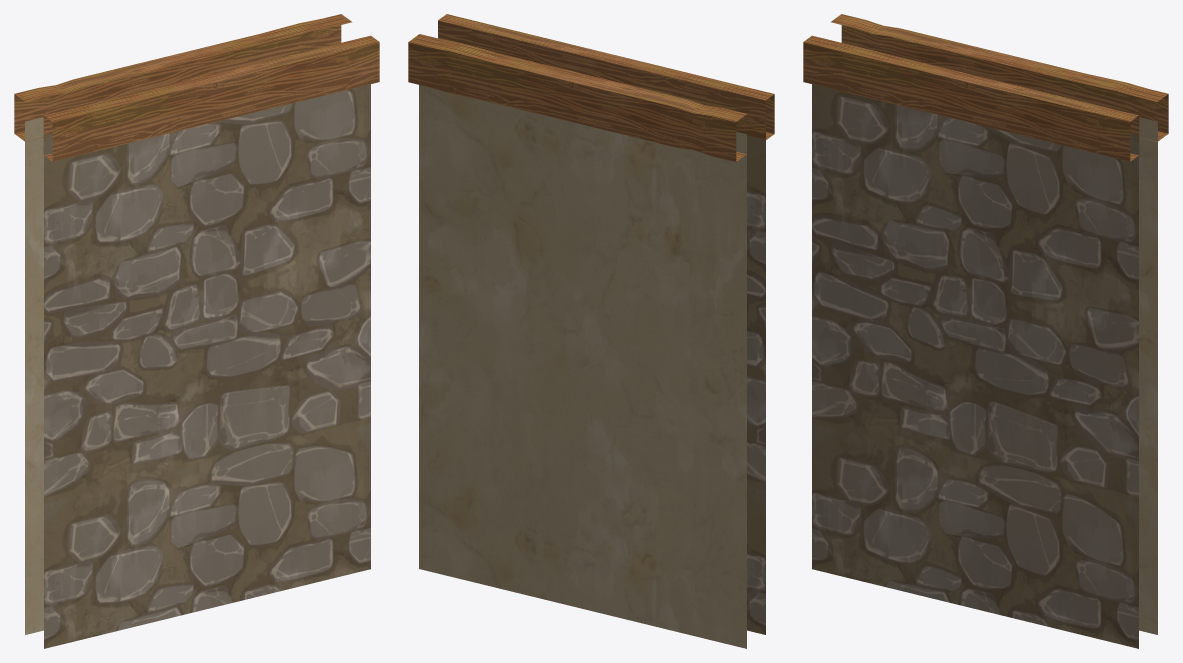
File: Wall_UnevenBrick_Straight.gltf
The picture shows the model from 3 angles, left to right: view 1: azimuth 30°, elevation 25°; view 2: azimuth 150°, elevation 25°; view 3: azimuth 330°, elevation 25°; orthographic projection.
Parts seen in each view (by area): view 1: Wall_UnevenBrick_Straight; view 2: Wall_UnevenBrick_Straight; view 3: Wall_UnevenBrick_Straight.
Part boxes in pixels (bbox=[...]): Wall_UnevenBrick_Straight: bbox=[14, 14, 379, 648]; Wall_UnevenBrick_Straight: bbox=[408, 14, 774, 648]; Wall_UnevenBrick_Straight: bbox=[803, 14, 1168, 648].
Bounding box in the file's own units: 2 × 3.12 × 0.4065.
3 materials, 3 textured.
